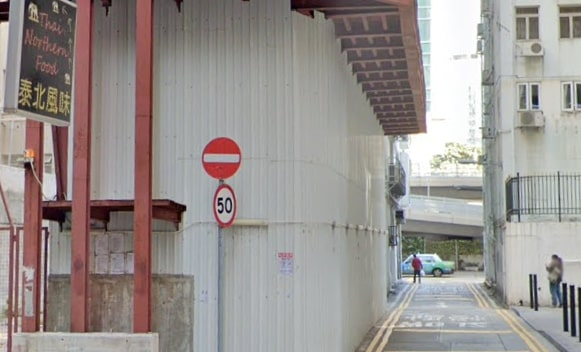No Enter: (200, 133, 243, 183)
Speed Limit: (206, 183, 238, 228)
